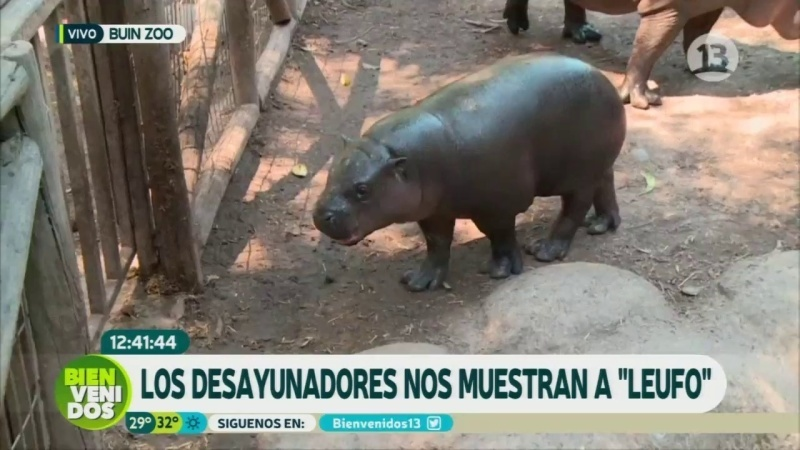hipopotamo: (303, 45, 644, 297)
